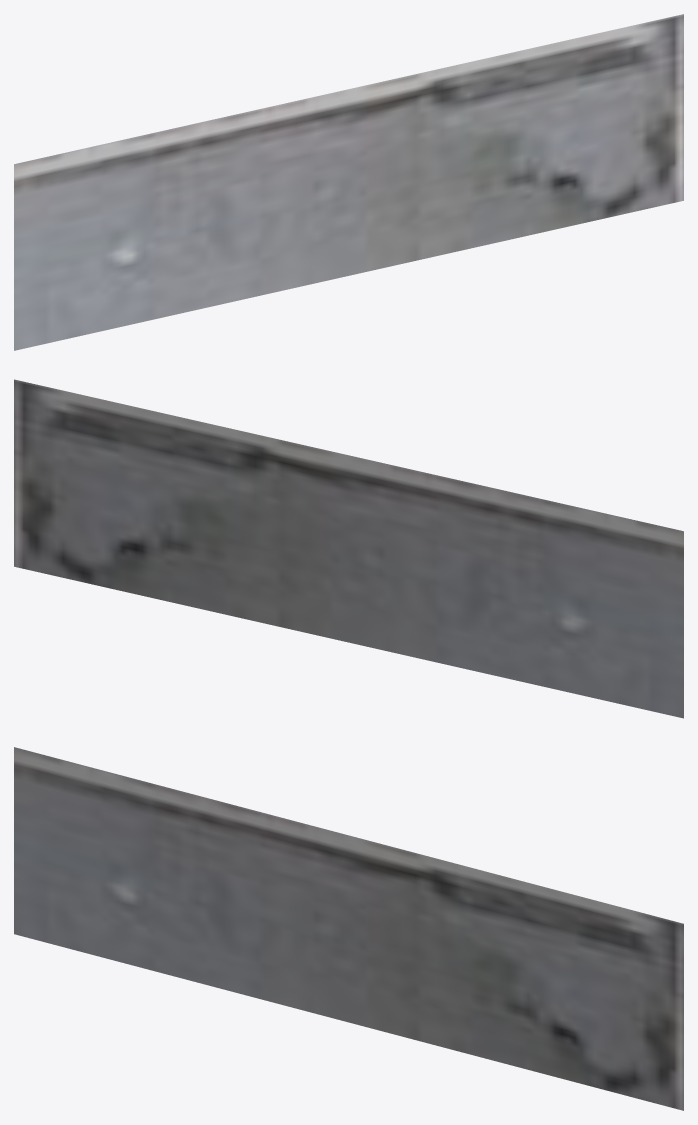
Rendered from tile_roof_10.glb.
3 renders of one model, top to bottom at view 1: azimuth 30°, elevation 25°; view 2: azimuth 150°, elevation 25°; view 3: azimuth 330°, elevation 25°, orthographic.
Size of the model in its own units: 74.99 by 21.33 by 0.184.
Materials: 1 (1 with a texture image).
